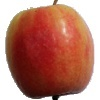apple: (5, 4, 94, 99)
